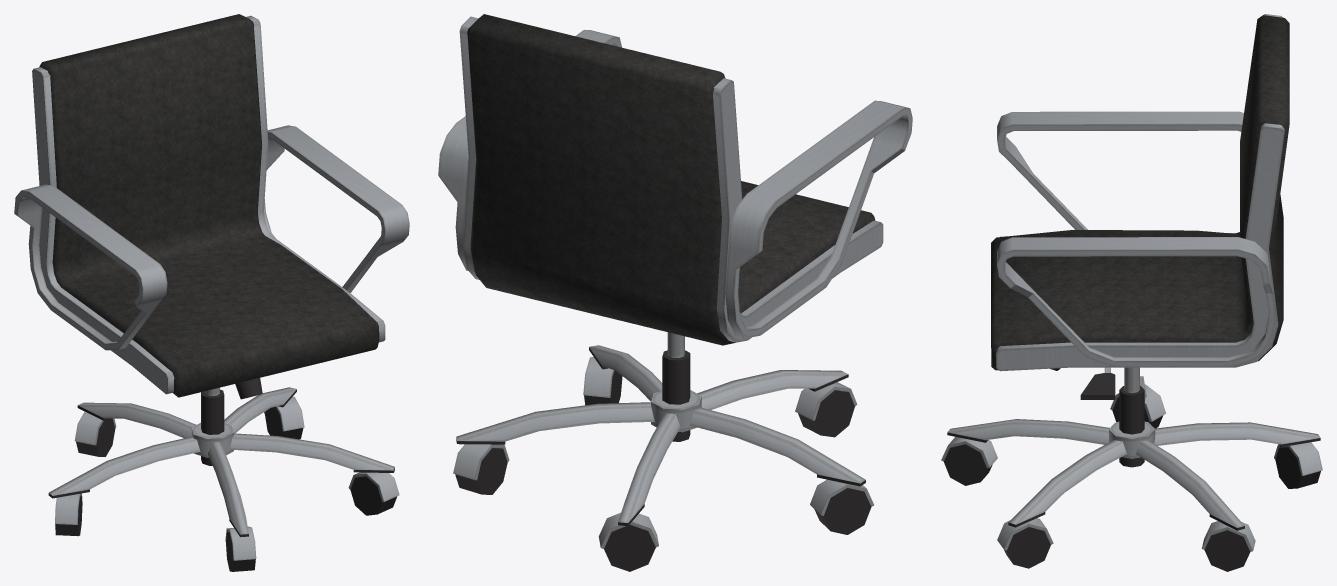
The model's file is chair_low2.gltf.
The picture shows the model from 3 angles, left to right: view 1: azimuth 30°, elevation 25°; view 2: azimuth 150°, elevation 25°; view 3: azimuth 270°, elevation 25°; orthographic projection. The views are drawn at different scales.
Parts seen in each view (by area): view 1: OfficeChair_Modern; view 2: OfficeChair_Modern; view 3: OfficeChair_Modern.
Part boxes in pixels (left/top/right/bottom): OfficeChair_Modern: left=14, top=14, right=409, bottom=571; OfficeChair_Modern: left=438, top=14, right=912, bottom=571; OfficeChair_Modern: left=941, top=14, right=1322, bottom=571.
Size of the model in its own units: 0.7204 by 0.9662 by 0.7597.
Materials: 1 (1 with a texture image).
